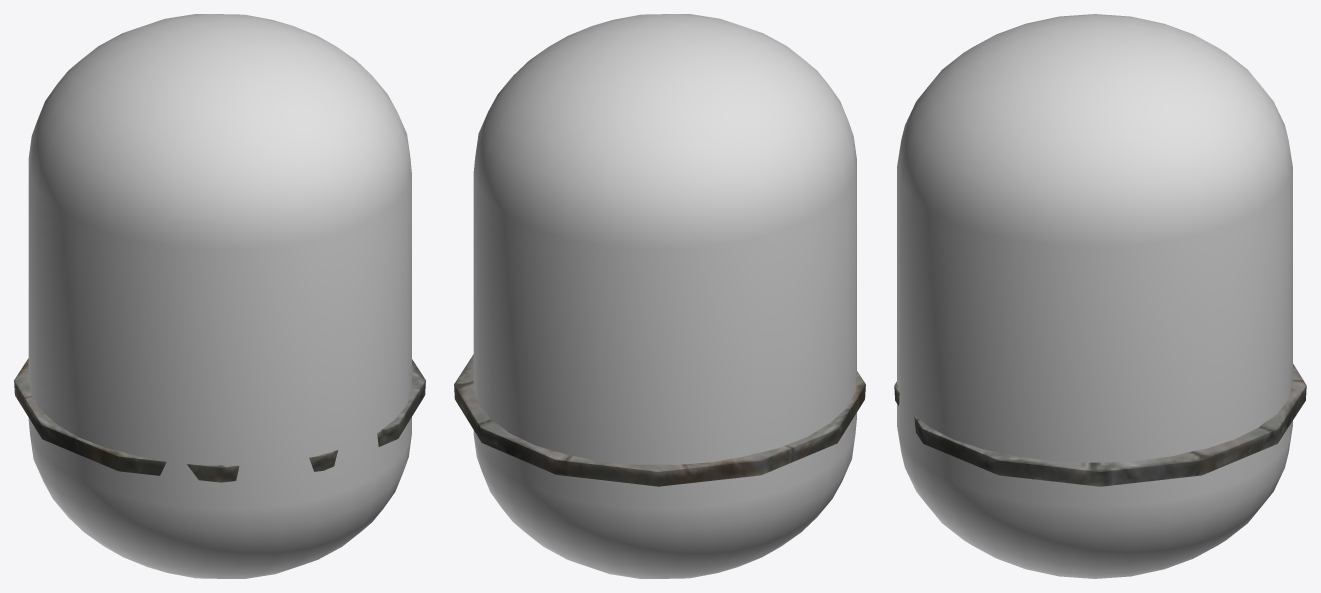
The model's file is Tower_E (2).fbx.
3 views of the same model, side by side, from view 1: azimuth 30°, elevation 25°; view 2: azimuth 150°, elevation 25°; view 3: azimuth 270°, elevation 25° (orthographic).
Parts seen in each view (by area): view 1: Capsule__2_, Tower_E__2_; view 2: Capsule__2_, Tower_E__2_; view 3: Capsule__2_, Tower_E__2_.
Boxes of the visible parts, x1=… form: Capsule__2_: x1=28, y1=14, x2=411, y2=578; Tower_E__2_: x1=14, y1=358, x2=425, y2=482; Capsule__2_: x1=473, y1=14, x2=856, y2=578; Tower_E__2_: x1=454, y1=354, x2=865, y2=486; Capsule__2_: x1=897, y1=14, x2=1292, y2=578; Tower_E__2_: x1=894, y1=363, x2=1306, y2=486.
Bounding box in the file's own units: 427 × 594 × 428.
